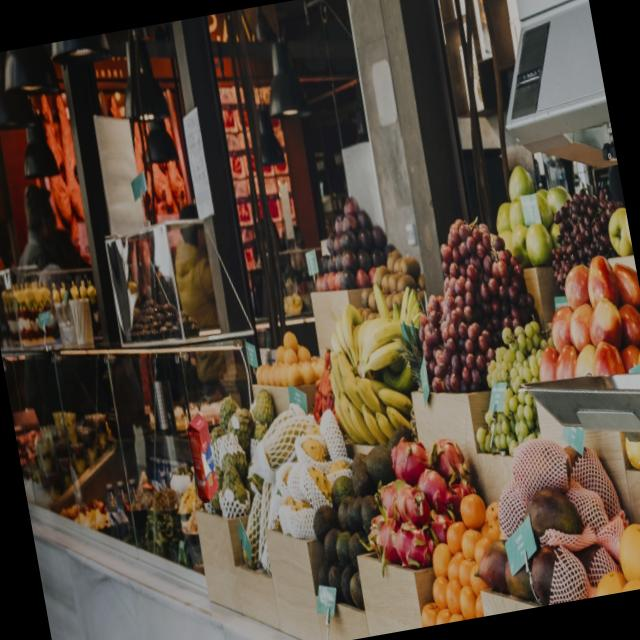mate bag: (184, 410, 222, 504)
